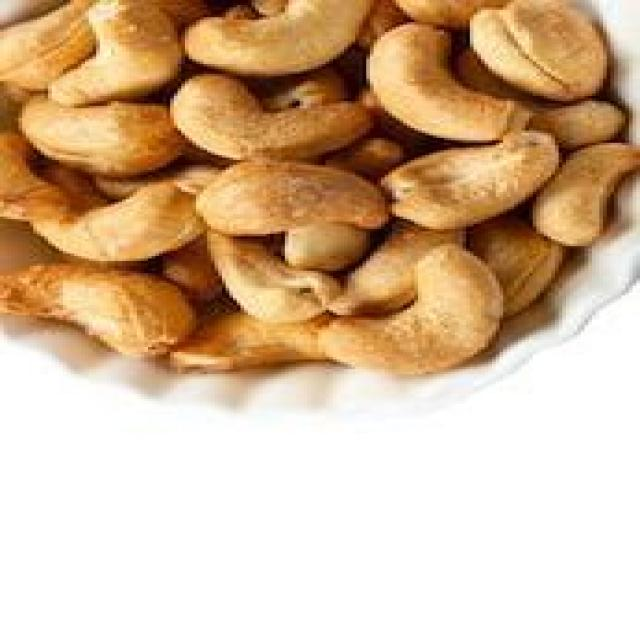Cashew: (355, 235, 569, 404), (32, 166, 203, 284), (19, 76, 191, 186), (171, 0, 419, 72), (166, 73, 370, 158), (373, 36, 523, 150), (35, 3, 186, 108), (372, 127, 546, 218), (160, 309, 349, 390), (0, 264, 181, 348), (202, 161, 394, 237), (485, 2, 620, 94)
